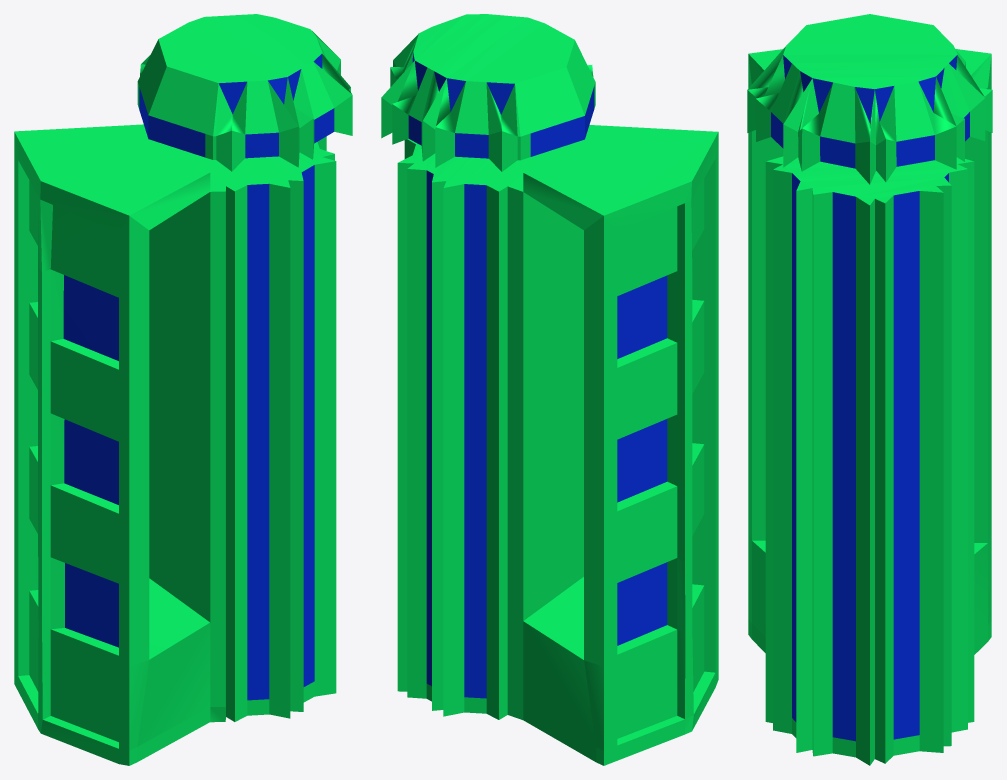
3 views of the same model, side by side, from view 1: azimuth 30°, elevation 25°; view 2: azimuth 150°, elevation 25°; view 3: azimuth 270°, elevation 25° (orthographic). The views are drawn at different scales.
Parts seen in each view (by area): view 1: Cylinder001.001; view 2: Cylinder001.001; view 3: Cylinder001.001.
Part boxes in pixels (left/top/right/bottom): Cylinder001.001: left=14, top=14, right=352, bottom=765; Cylinder001.001: left=381, top=14, right=718, bottom=765; Cylinder001.001: left=747, top=14, right=992, bottom=765.
Size of the model in its own units: 106 by 215 by 70.74.
